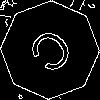C: (25, 25, 84, 84)
